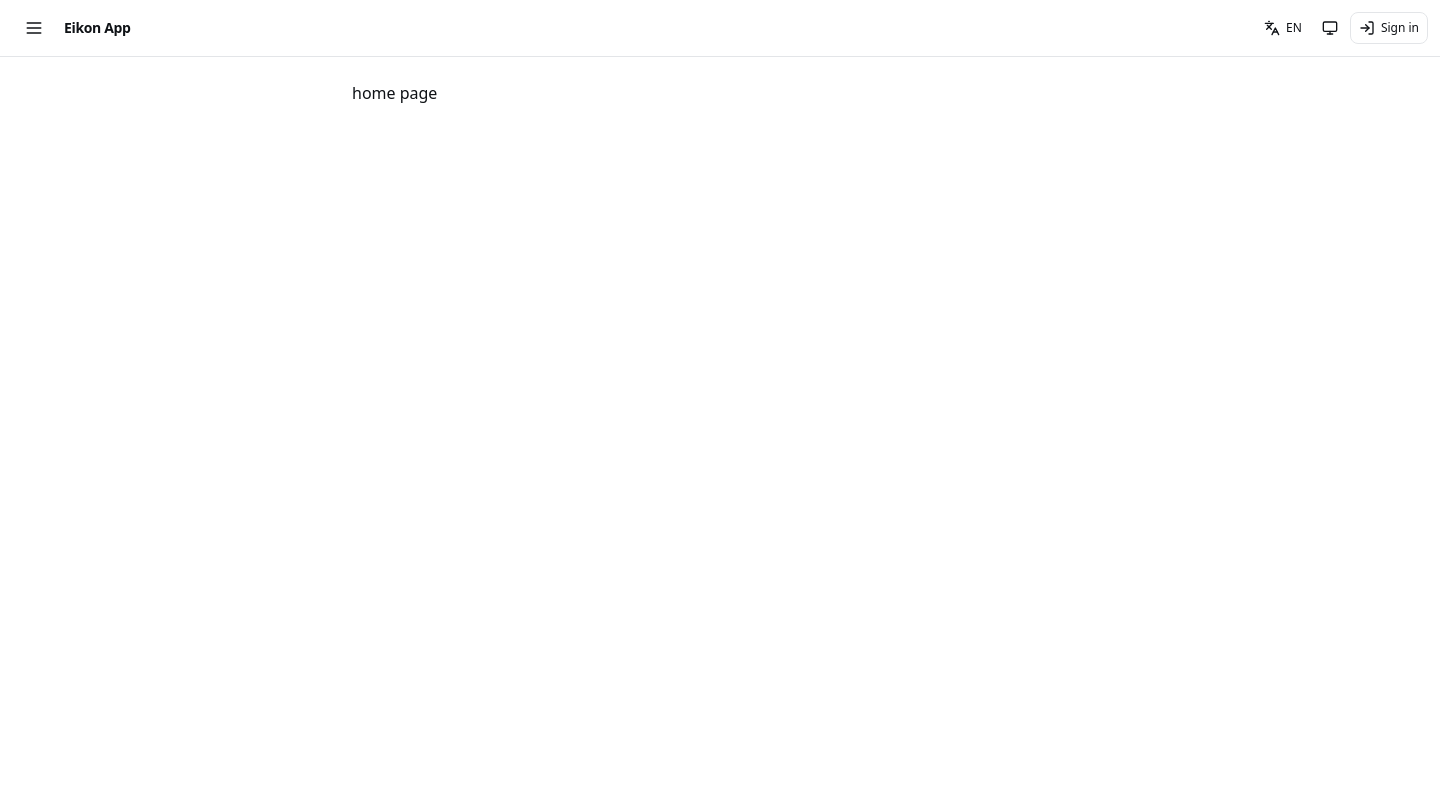
Test: <MobileDrawerRootLayout /> › opens the drawer and reveals nav links when the hamburger is clicked
This screenshot has width=1440, height=810.
Click the button named "Open navigation". click: (34,28)
box: top-left (12, 6), bottom-right (56, 50)
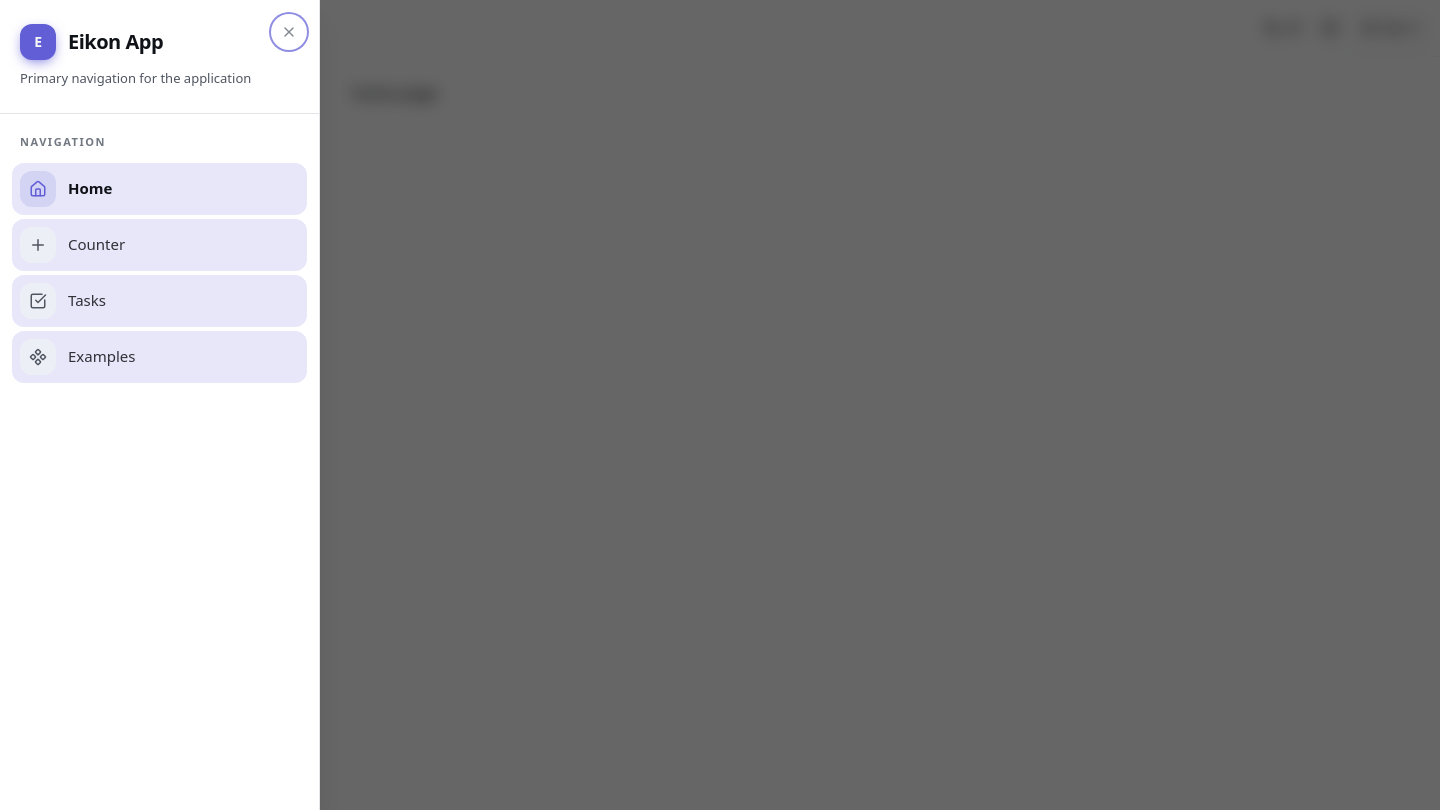
Result: the link "Home" is shown at top-left (12, 163), bottom-right (307, 215)
Result: the link "Counter" is shown at top-left (12, 219), bottom-right (307, 271)
Result: the link "Tasks" is shown at top-left (12, 275), bottom-right (307, 327)
